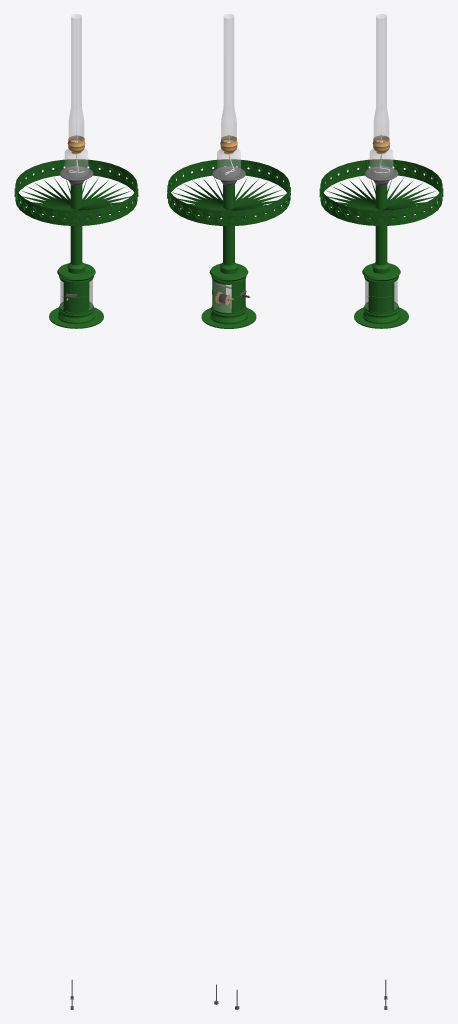
The model's file is MechanicalRoom.glb.
3 renders of one model, left to right at view 1: azimuth 90°, elevation 25°; view 2: azimuth 150°, elevation 25°; view 3: azimuth 270°, elevation 25°, orthographic.
Visible parts, largest first — view 1: Clockwork-cabinet, Oil-lamp; view 2: Clockwork-cabinet, Oil-lamp, Turn mechanism_door 1; view 3: Clockwork-cabinet, Oil-lamp.
Boxes of the visible parts, x1=… form: Clockwork-cabinet: x1=14, y1=159, x2=138, y2=328; Oil-lamp: x1=59, y1=14, x2=93, y2=187; Clockwork-cabinet: x1=167, y1=159, x2=290, y2=328; Oil-lamp: x1=212, y1=14, x2=245, y2=187; Turn mechanism_door 1: x1=212, y1=279, x2=233, y2=314; Clockwork-cabinet: x1=319, y1=159, x2=443, y2=328; Oil-lamp: x1=364, y1=14, x2=398, y2=187.
Size of the model in its own units: 2.07 by 18.18 by 2.07.
